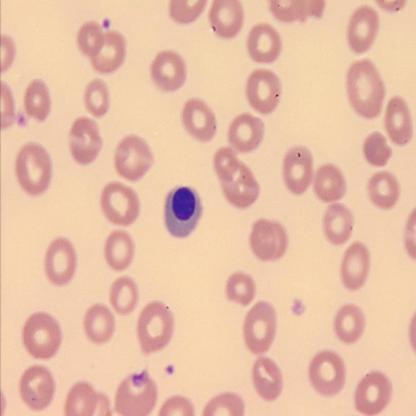NRC: (164, 182, 203, 238)
